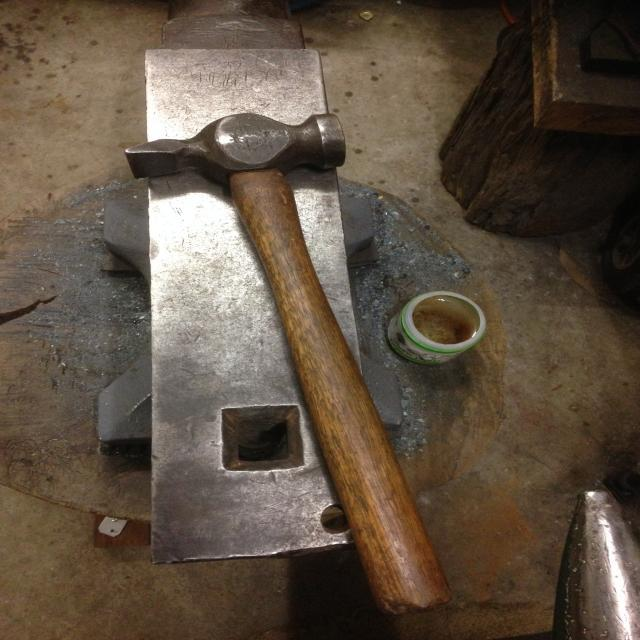hammer: (110, 106, 458, 618)
